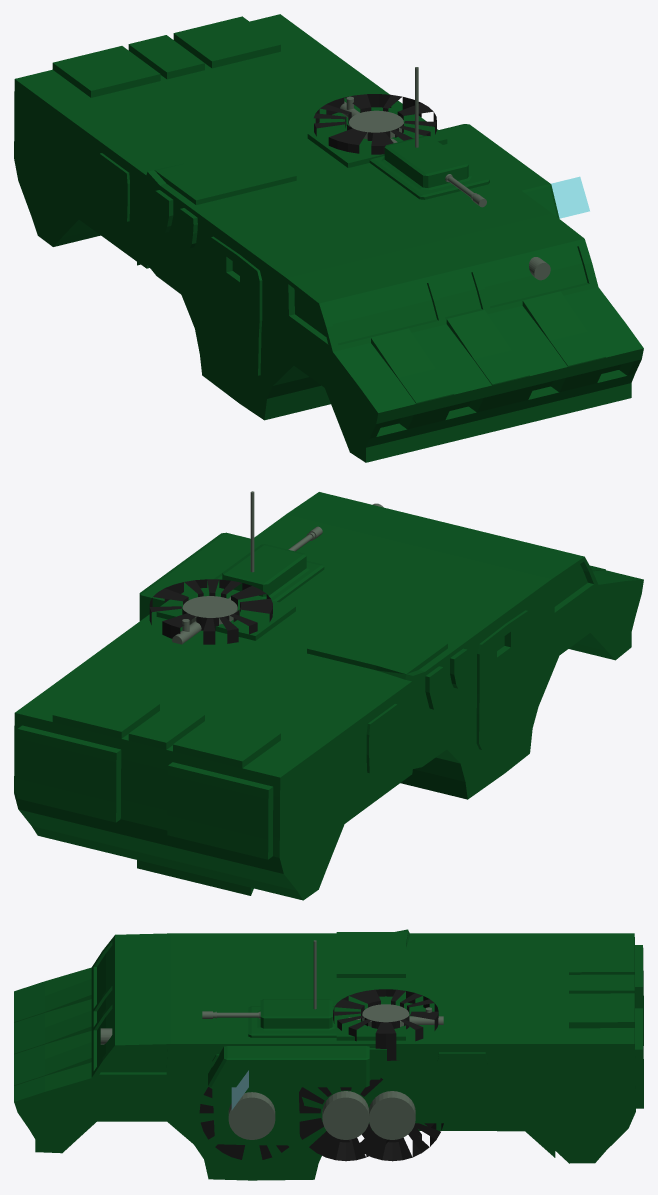
File: mechinf.glb
3 renders of one model, top to bottom at view 1: azimuth 30°, elevation 25°; view 2: azimuth 150°, elevation 25°; view 3: azimuth 270°, elevation 25°, orthographic. The views are drawn at different scales.
Visible parts, largest first — view 1: Cube, Cube.001, tire, Plane, wheel_disk; view 2: Cube, Cube.001, tire, wheel_disk; view 3: Cube, Cube.001, tire, Circle.001, Cylinder.021, Cylinder.022, Cylinder.004, Circle.002, Circle, wheel_disk, Cylinder.001.
Part boxes in pixels (left/top/right/bottom): Cube: left=14, top=14, right=643, bottom=462; Cube.001: left=369, top=124, right=559, bottom=218; tire: left=314, top=94, right=436, bottom=154; Plane: left=551, top=176, right=589, bottom=218; wheel_disk: left=349, top=110, right=403, bottom=139; Cube: left=14, top=492, right=643, bottom=900; Cube.001: left=139, top=532, right=324, bottom=620; tire: left=149, top=579, right=272, bottom=644; wheel_disk: left=182, top=596, right=237, bottom=624; Cube: left=14, top=929, right=643, bottom=1180; Cube.001: left=208, top=999, right=369, bottom=1087; tire: left=333, top=989, right=438, bottom=1060; Circle.001: left=299, top=1078, right=389, bottom=1161; Cylinder.021: left=322, top=1091, right=369, bottom=1139; Cylinder.022: left=369, top=1091, right=415, bottom=1139; Cylinder.004: left=228, top=1092, right=275, bottom=1139; Circle.002: left=349, top=1123, right=443, bottom=1161; Circle: left=199, top=1087, right=304, bottom=1159; wheel_disk: left=362, top=1004, right=409, bottom=1026; Cylinder.001: left=202, top=1011, right=260, bottom=1018.
Size of what is drawn, in the model's own units: 3.95 by 2.93 by 7.34.
